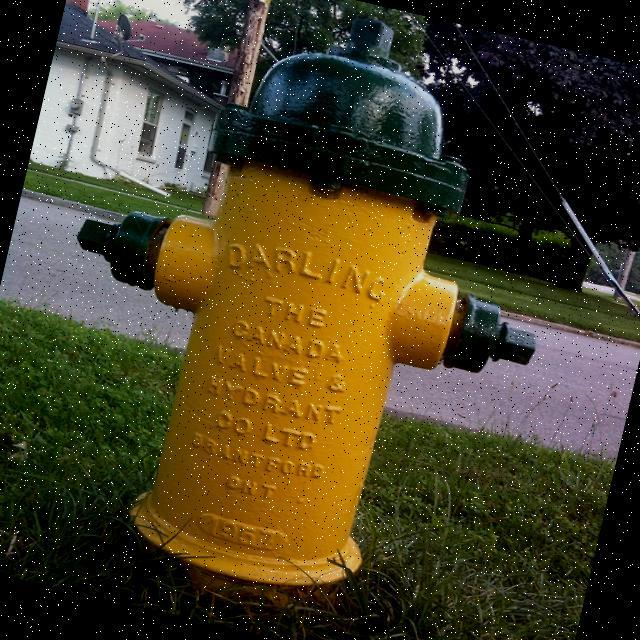fire_hydrant: (4, 0, 604, 640)
